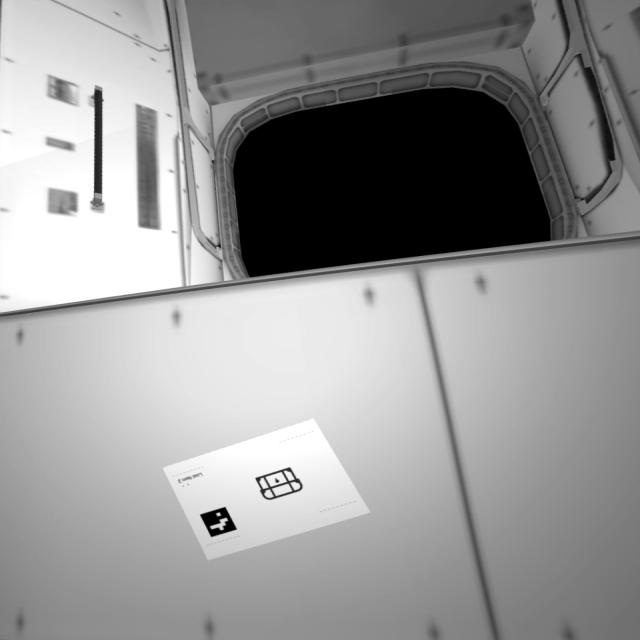treasure_box: (236, 464, 312, 506)
